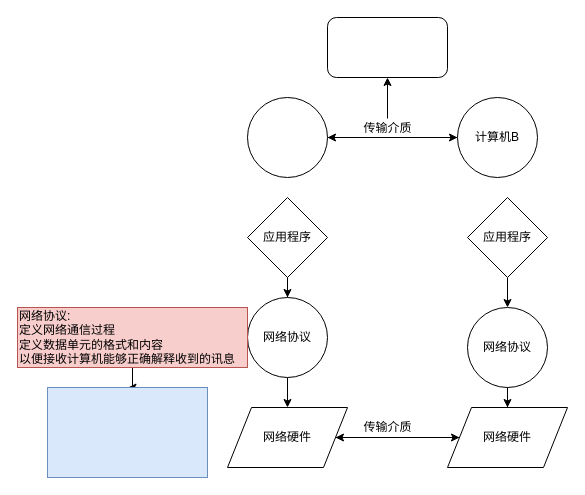
Some shapes in this 585 by 495 pixel diagram are drawn without their labels. The centre of each missing label's shape, as x and y in pixels:
"TCP/IP特性: 逻辑编址 路由选择 域名解析 错误控制和流量控制 应用支持" belongs at pixel 127 432.
"计算机A" belongs at pixel 287 137.
"金属导线(网线) 电话线 无线网络" belongs at pixel 387 47.
